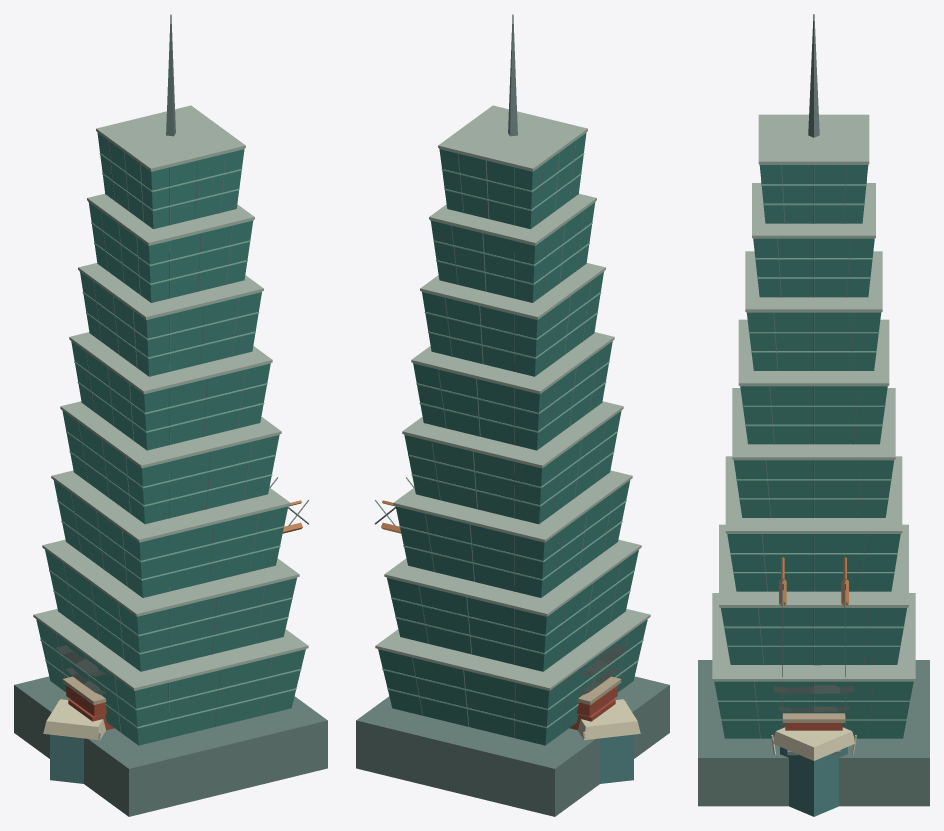
The model's file is taiwan-environment-low-v1.glb.
3 renders of one model, left to right at view 1: azimuth 30°, elevation 25°; view 2: azimuth 150°, elevation 25°; view 3: azimuth 270°, elevation 25°, orthographic.
Visible parts, largest first — view 1: tower_Glass, tower_Metal, tower_Stone, ocean_Glass, ocean_Stone, gate_Roof, gate_Masonry; view 2: tower_Glass, tower_Metal, tower_Stone, ocean_Glass, ocean_Stone, gate_Roof, gate_Masonry; view 3: tower_Glass, tower_Metal, tower_Stone, ocean_Glass, ocean_Stone, gate_Roof, crane_Metal, gate_Stone, gate_Masonry.
Boxes of the visible parts, x1,y1,x2,y2 form: tower_Glass: [36, 133, 305, 745]; tower_Metal: [33, 14, 308, 738]; tower_Stone: [14, 676, 327, 816]; ocean_Glass: [50, 734, 83, 783]; ocean_Stone: [43, 699, 105, 740]; gate_Roof: [56, 645, 106, 694]; gate_Masonry: [66, 685, 114, 730]; tower_Glass: [378, 133, 647, 745]; tower_Metal: [375, 14, 650, 738]; tower_Stone: [356, 676, 669, 816]; ocean_Glass: [600, 734, 633, 783]; ocean_Stone: [578, 699, 640, 740]; gate_Roof: [577, 645, 627, 694]; gate_Masonry: [569, 685, 617, 730]; tower_Glass: [714, 165, 913, 738]; tower_Metal: [712, 14, 915, 738]; tower_Stone: [698, 660, 929, 806]; ocean_Glass: [780, 747, 847, 816]; ocean_Stone: [772, 727, 855, 760]; gate_Roof: [774, 665, 853, 711]; crane_Metal: [779, 557, 848, 755]; gate_Stone: [782, 713, 845, 722]; gate_Masonry: [785, 723, 842, 730].
Bounding box in the file's own units: 33.4 × 92.03 × 26.
